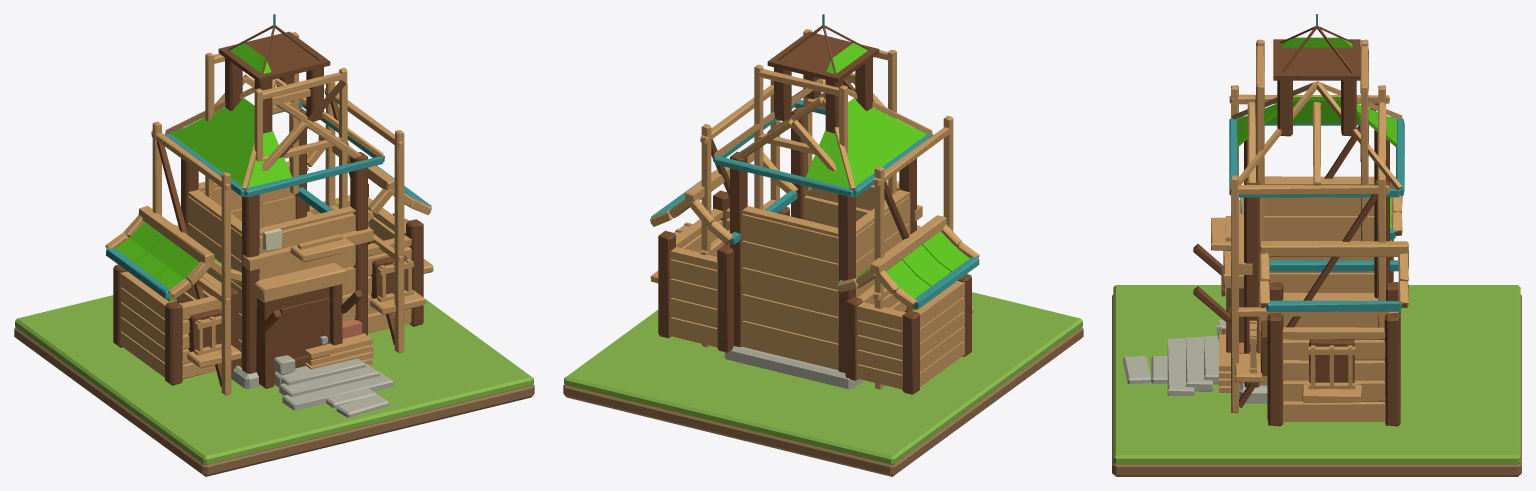
Rendered from town_hall_l05_construction_LOD1.glb.
3 views of the same model, side by side, from view 1: azimuth 30°, elevation 25°; view 2: azimuth 150°, elevation 25°; view 3: azimuth 270°, elevation 25° (orthographic). The views are drawn at different scales.
Parts seen in each view (by area): view 1: town_hall_l05_construction_foundation.001, town_hall_l05_construction_grass_tile.001, town_hall_l05_construction_earth_tile.001, town_hall_l05_construction_path_stone.005; view 2: town_hall_l05_construction_foundation.001, town_hall_l05_construction_grass_tile.001, town_hall_l05_construction_earth_tile.001; view 3: town_hall_l05_construction_foundation.001, town_hall_l05_construction_grass_tile.001, town_hall_l05_construction_earth_tile.001, town_hall_l05_construction_path_stone.005, town_hall_l05_construction_path_stone.004.
Boxes of the visible parts, bbox=[...] form: town_hall_l05_construction_foundation.001: bbox=[105, 14, 433, 410]; town_hall_l05_construction_grass_tile.001: bbox=[15, 295, 533, 464]; town_hall_l05_construction_earth_tile.001: bbox=[14, 327, 534, 476]; town_hall_l05_construction_path_stone.005: bbox=[336, 394, 389, 417]; town_hall_l05_construction_foundation.001: bbox=[650, 14, 979, 394]; town_hall_l05_construction_grass_tile.001: bbox=[564, 292, 1082, 464]; town_hall_l05_construction_earth_tile.001: bbox=[563, 327, 1083, 476]; town_hall_l05_construction_foundation.001: bbox=[1167, 14, 1408, 426]; town_hall_l05_construction_grass_tile.001: bbox=[1113, 285, 1520, 464]; town_hall_l05_construction_earth_tile.001: bbox=[1112, 295, 1521, 476]; town_hall_l05_construction_path_stone.005: bbox=[1123, 356, 1151, 383]; town_hall_l05_construction_path_stone.004: bbox=[1151, 356, 1167, 383].
Size of the model in its own units: 3.6 by 3.66 by 3.6.
